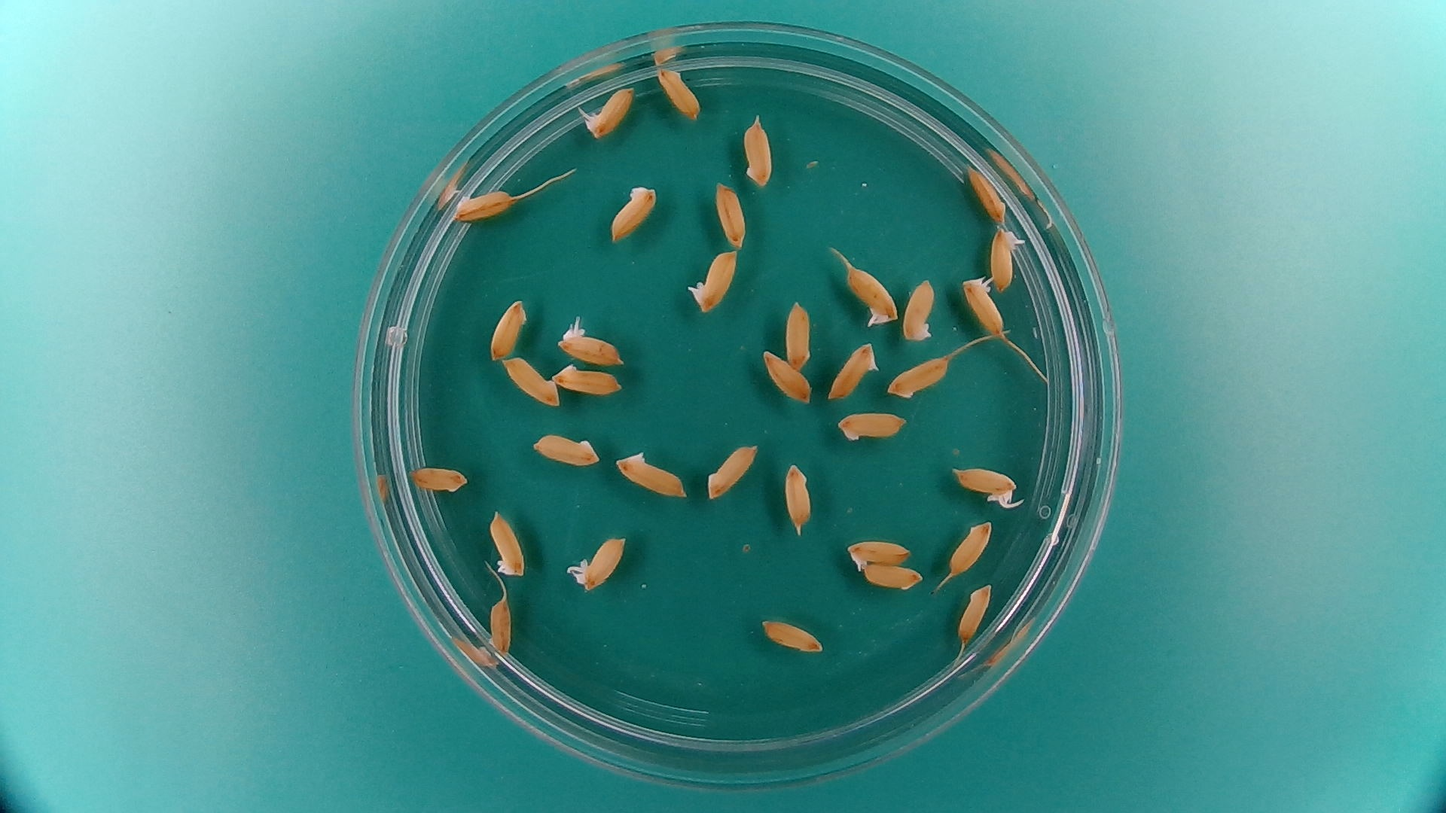no: (612, 445, 691, 499), (703, 440, 760, 503), (606, 179, 660, 244), (499, 353, 562, 408), (487, 291, 530, 367), (886, 351, 952, 400), (759, 348, 813, 405), (486, 507, 528, 580), (653, 63, 703, 121), (528, 429, 602, 468), (550, 360, 627, 397), (740, 111, 776, 189), (758, 614, 826, 655), (947, 518, 994, 576), (834, 407, 909, 443), (900, 274, 938, 345), (712, 178, 749, 250), (966, 162, 1008, 225), (451, 184, 517, 224), (954, 580, 993, 647), (782, 458, 816, 533), (783, 296, 814, 372), (407, 461, 470, 493), (859, 561, 924, 592), (484, 592, 514, 656)
yes: (842, 257, 899, 327), (685, 245, 742, 315), (567, 532, 629, 593), (554, 315, 627, 366), (824, 339, 880, 402), (577, 81, 637, 139), (949, 462, 1022, 507), (960, 271, 1006, 338), (988, 224, 1027, 293), (844, 534, 915, 571)
